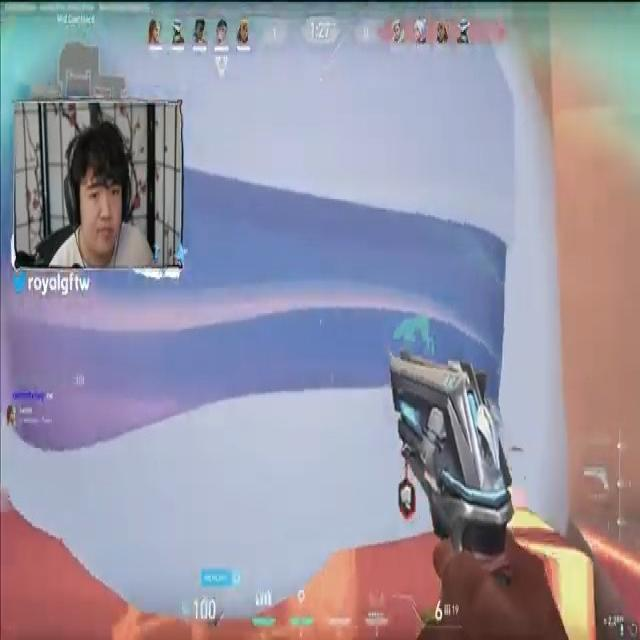smoke: (14, 24, 523, 535)
